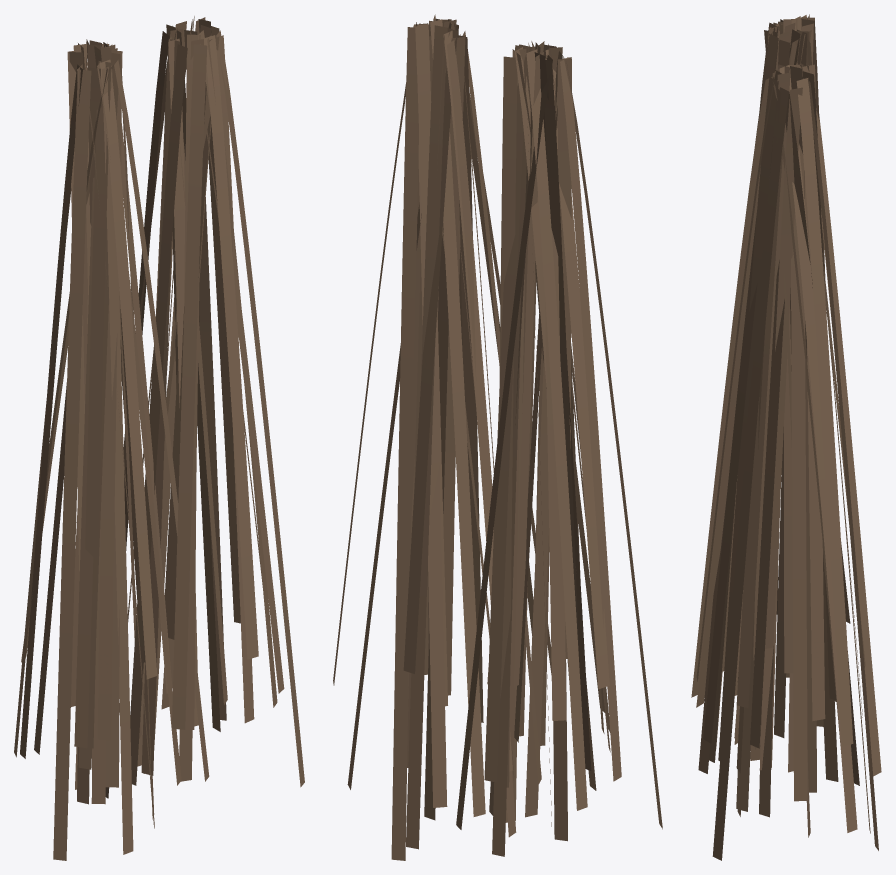
Rendered from test_haircard_ribbon.glb.
The picture shows the model from 3 angles, left to right: view 1: azimuth 30°, elevation 25°; view 2: azimuth 150°, elevation 25°; view 3: azimuth 270°, elevation 25°; orthographic projection. The views are drawn at different scales.
Parts seen in each view (by area): view 1: TestHairCardMesh; view 2: TestHairCardMesh; view 3: TestHairCardMesh.
Boxes of the visible parts, <box> form: TestHairCardMesh: <box>14,16,304,860</box>; TestHairCardMesh: <box>333,14,662,860</box>; TestHairCardMesh: <box>691,14,881,860</box>.
Bounding box in the file's own units: 0.15 × 0.4426 × 0.0961.
